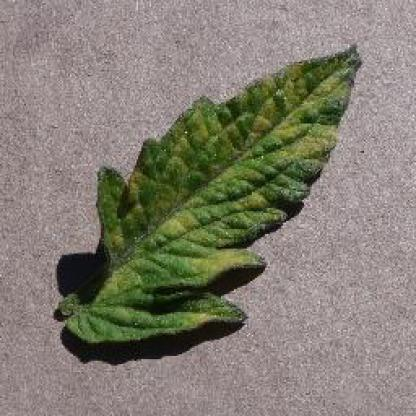bad leaf: (64, 62, 350, 319)
